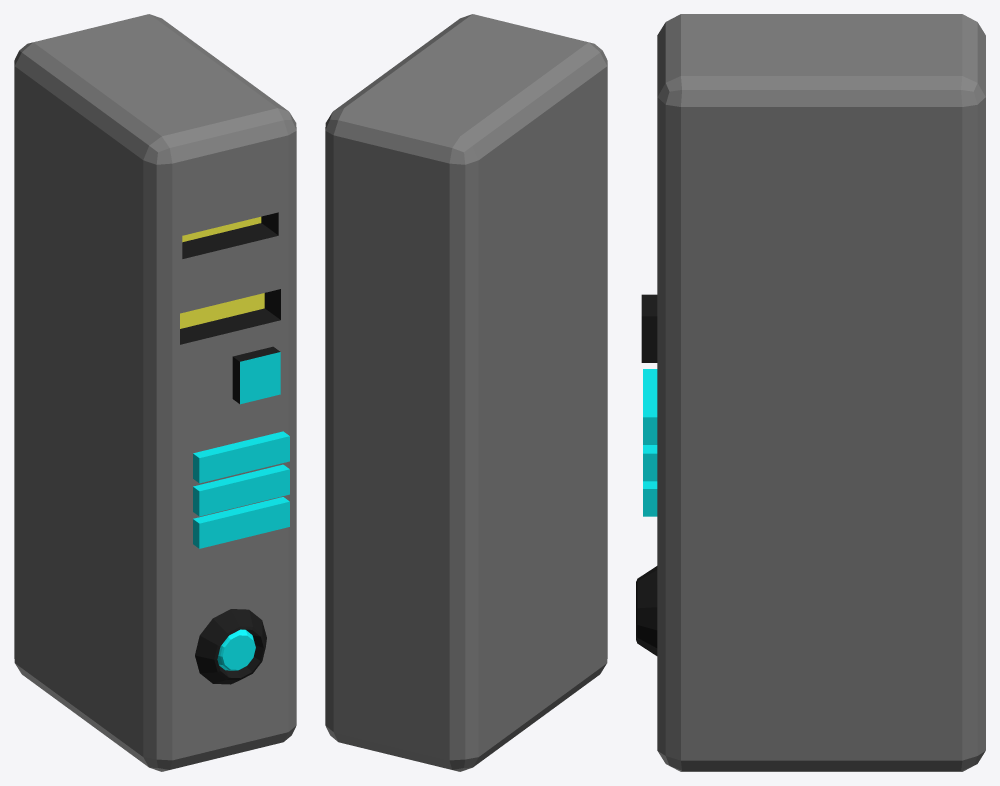
The model's file is Module_004.fbx.
3 views of the same model, side by side, from view 1: azimuth 30°, elevation 25°; view 2: azimuth 150°, elevation 25°; view 3: azimuth 270°, elevation 25° (orthographic). The views are drawn at different scales.
Parts seen in each view (by area): view 1: Module_004; view 2: Module_004; view 3: Module_004.
Part boxes in pixels (<box>): Module_004: <box>14,14,296,771</box>; Module_004: <box>325,14,607,771</box>; Module_004: <box>636,14,985,771</box>.
Size of the model in its own units: 118 by 468 by 213.
